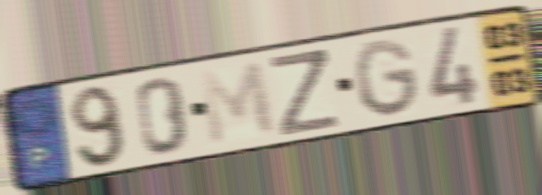0: (134, 73, 189, 159)
4: (425, 21, 482, 111)
9: (65, 83, 127, 171)
G: (351, 37, 422, 121)
M: (196, 58, 281, 150)
Z: (267, 46, 343, 139)
